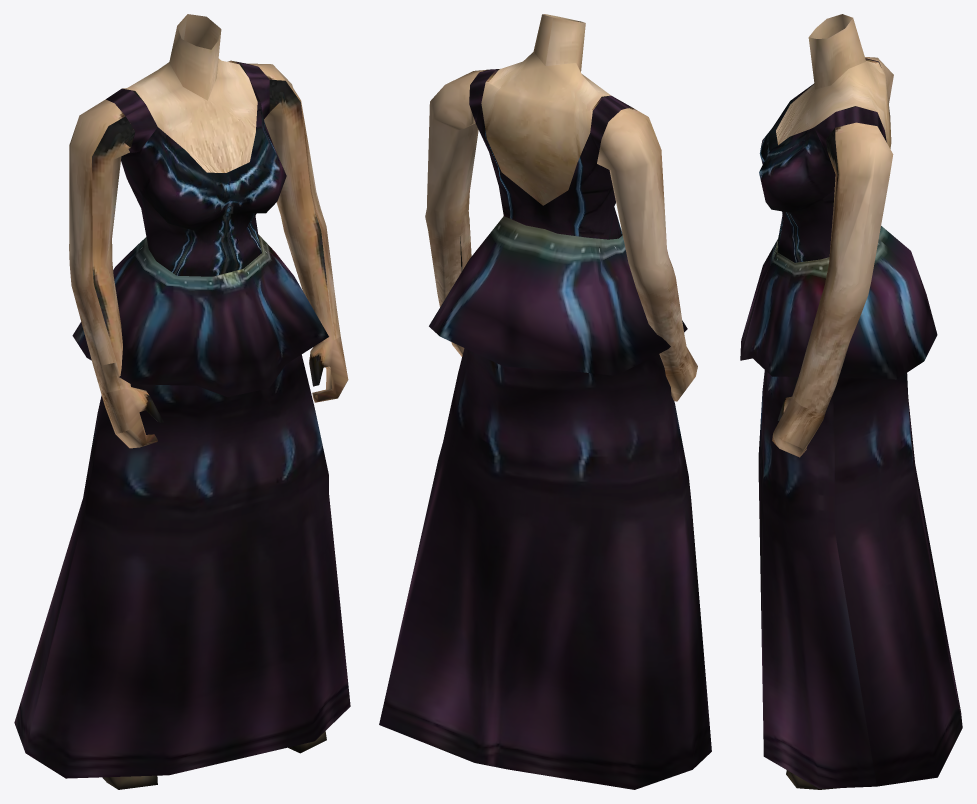
File: WG_ARMOR_DRESS_PURPLE_01.glb
The picture shows the model from 3 angles, left to right: view 1: azimuth 30°, elevation 25°; view 2: azimuth 150°, elevation 25°; view 3: azimuth 270°, elevation 25°; orthographic projection. The views are drawn at different scales.
Parts seen in each view (by area): view 1: WG_ARMOR_DRESS_PURPLE_01; view 2: WG_ARMOR_DRESS_PURPLE_01; view 3: WG_ARMOR_DRESS_PURPLE_01.
Boxes of the visible parts, box(x1,y1,x2,y2) form: WG_ARMOR_DRESS_PURPLE_01: box(14, 14, 350, 789); WG_ARMOR_DRESS_PURPLE_01: box(379, 14, 711, 789); WG_ARMOR_DRESS_PURPLE_01: box(740, 14, 962, 789).
Bounding box in the file's own units: 0.7235 × 1.66 × 0.4655.
2 materials, 2 textured.
